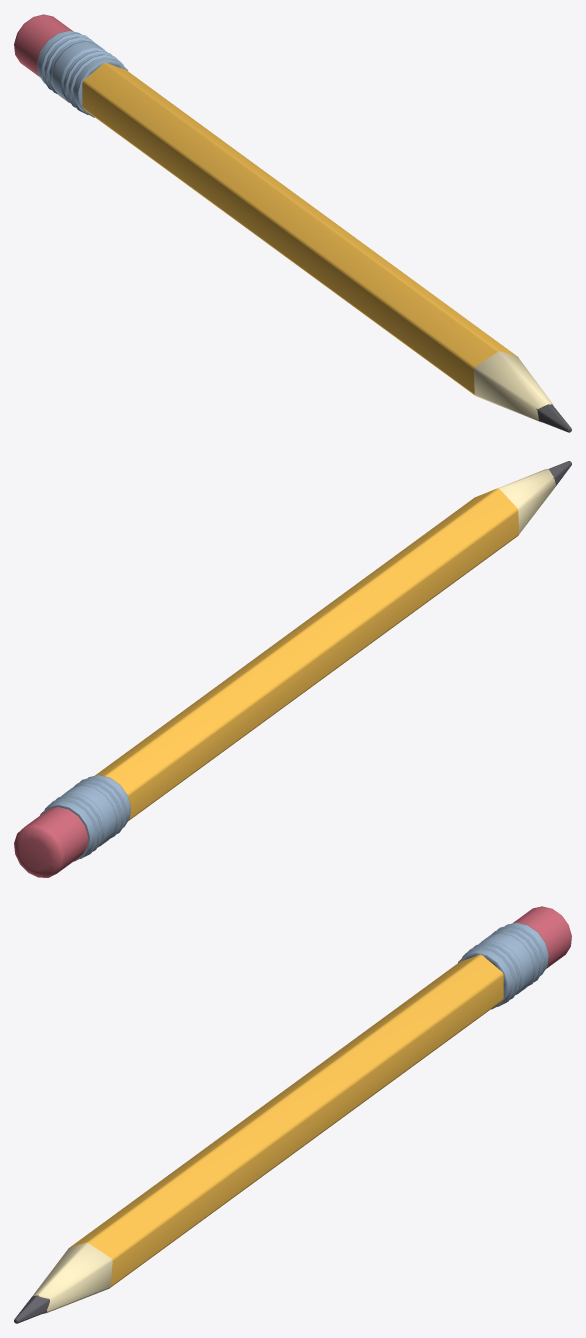
File: Pencil.fbx
The picture shows the model from 3 angles, top to bottom: view 1: azimuth 30°, elevation 25°; view 2: azimuth 150°, elevation 25°; view 3: azimuth 330°, elevation 25°; orthographic projection.
Parts seen in each view (by area): view 1: Pencil, Ferrul, WhiteWood, Rubber, Graphit; view 2: Pencil, Rubber, Ferrul, WhiteWood; view 3: Pencil, Ferrul, WhiteWood, Rubber, Graphit.
Boxes of the visible parts, x1=… form: Pencil: x1=82, y1=63, x2=518, y2=395; Ferrul: x1=37, y1=30, x2=127, y2=117; WhiteWood: x1=473, y1=351, x2=553, y2=422; Rubber: x1=14, y1=14, x2=73, y2=76; Graphit: x1=536, y1=404, x2=571, y2=432; Pencil: x1=94, y1=488, x2=518, y2=820; Rubber: x1=14, y1=807, x2=87, y2=877; Ferrul: x1=40, y1=775, x2=130, y2=861; WhiteWood: x1=498, y1=469, x2=555, y2=534; Pencil: x1=70, y1=954, x2=503, y2=1288; Ferrul: x1=458, y1=922, x2=548, y2=1009; WhiteWood: x1=32, y1=1242, x2=112, y2=1314; Rubber: x1=512, y1=906, x2=571, y2=968; Graphit: x1=14, y1=1295, x2=49, y2=1323.
Bounding box in the file's own units: 21.48 × 21.36 × 356.
